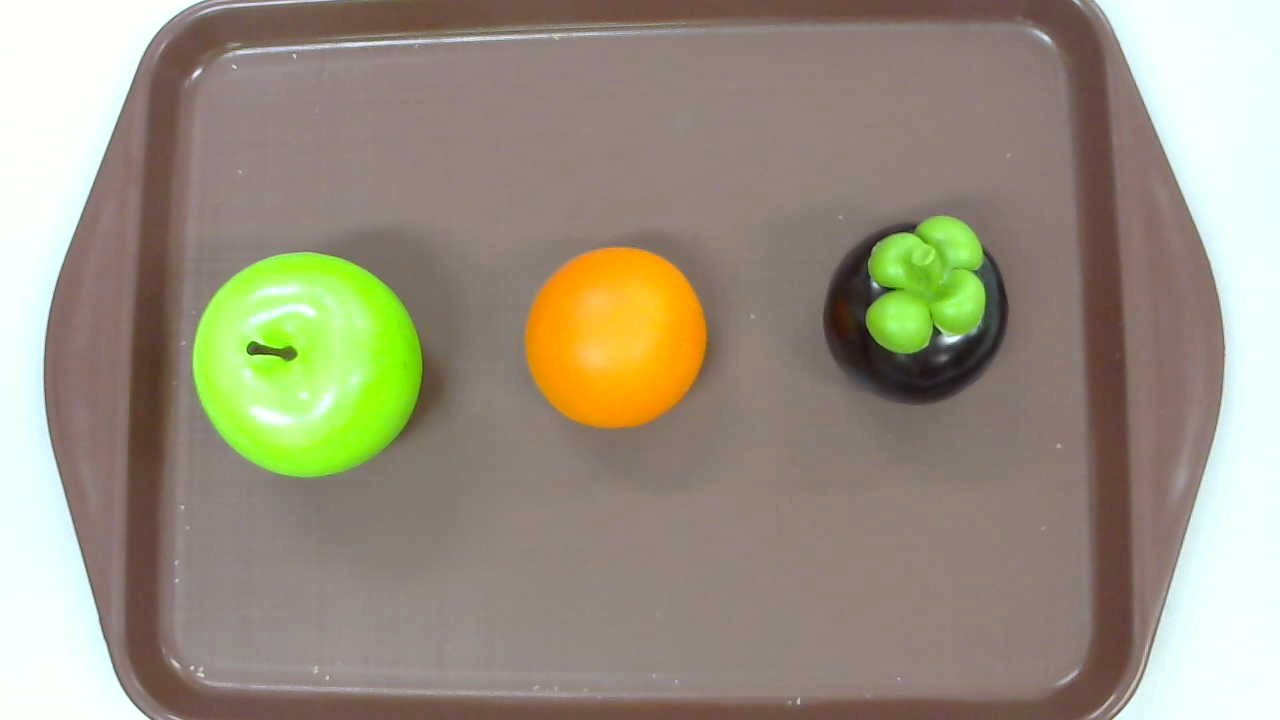bun: (525, 247, 708, 429)
green apple: (191, 252, 422, 479)
mangosteen: (821, 213, 1010, 405)
